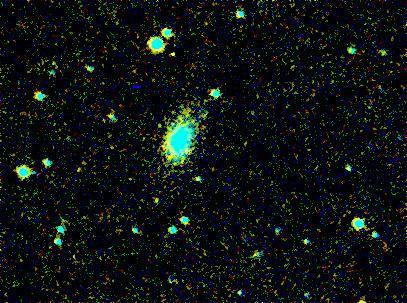star: (154, 38, 184, 68)
